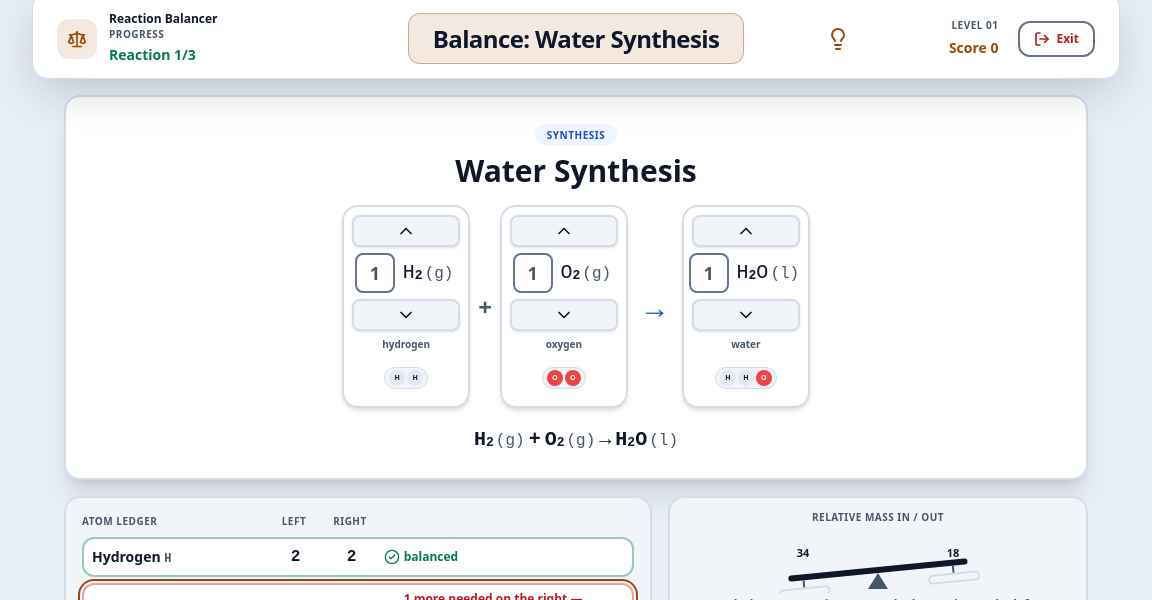
Reaction Balancer page (game flow) › offers three hint tiers from the H key and the lightbulb and withholds the bonus after tier 2
This screenshot has width=1152, height=600.
Press h
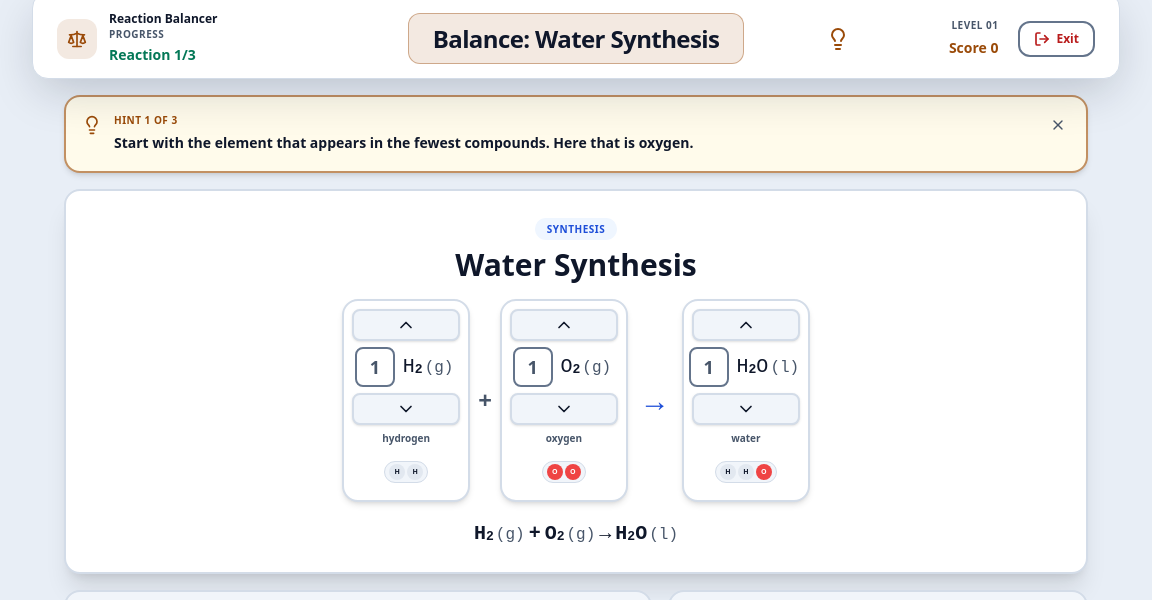
Click the button titled "Get Hint": (838, 38) [818,18,858,58]
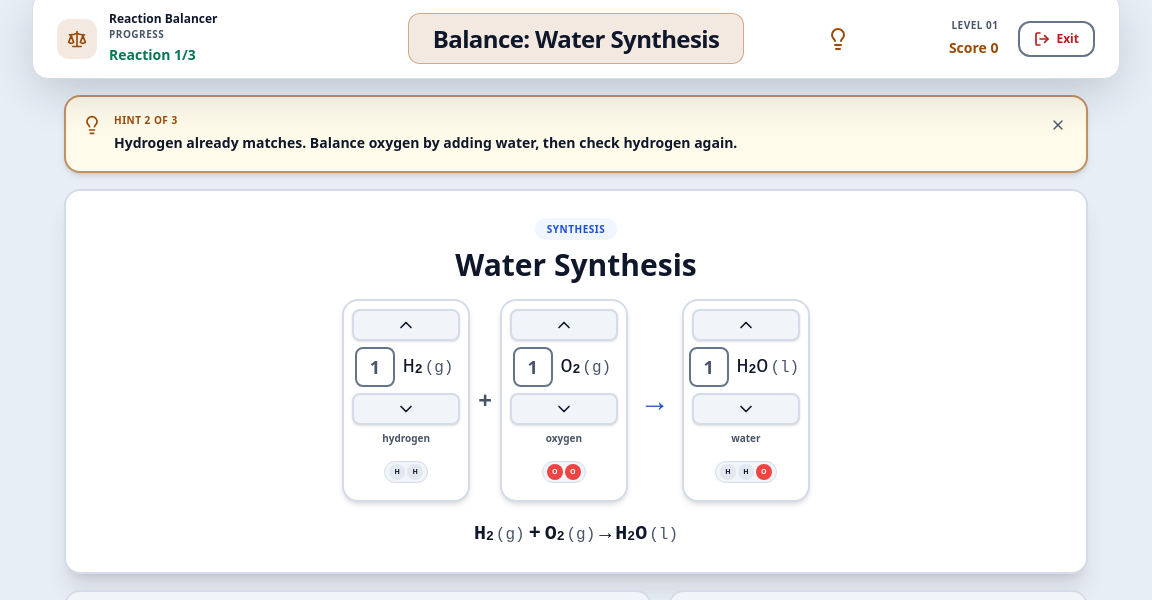
Check: the message with test id "balancer-hint" shows "Hydrogen already matches. Balance oxygen by adding water, then check hydrogen again.", box [114,133,737,152]
Press h
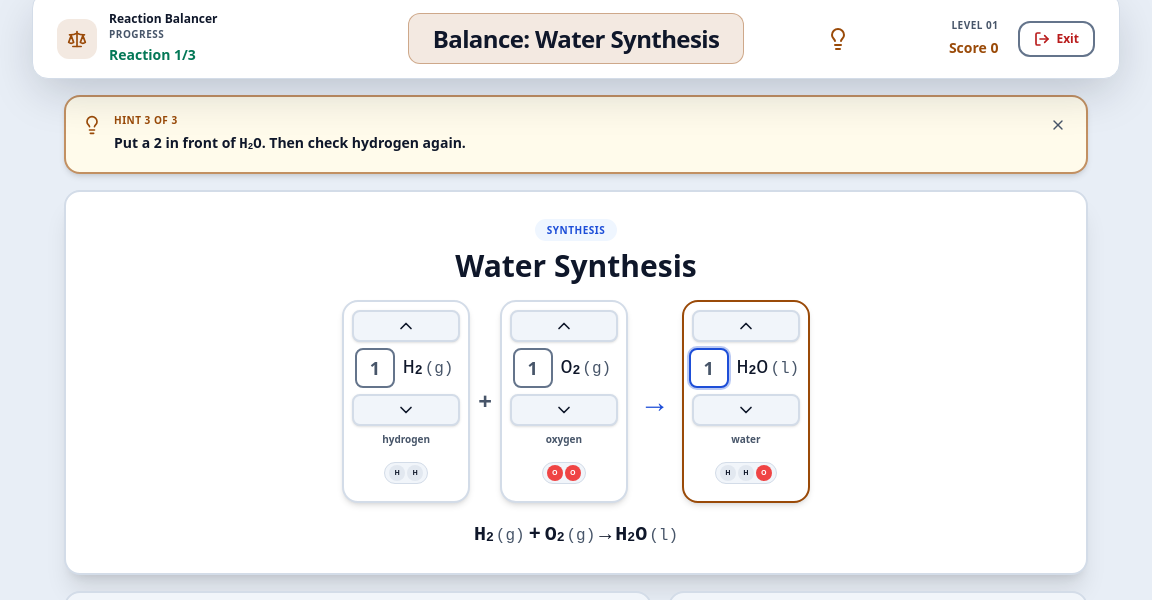
Press h in the field named "Coefficient for water, H2O", box [688,348,728,388]
In the 1st field with placeholder "1": (375, 368) [355,348,395,388], type "2"
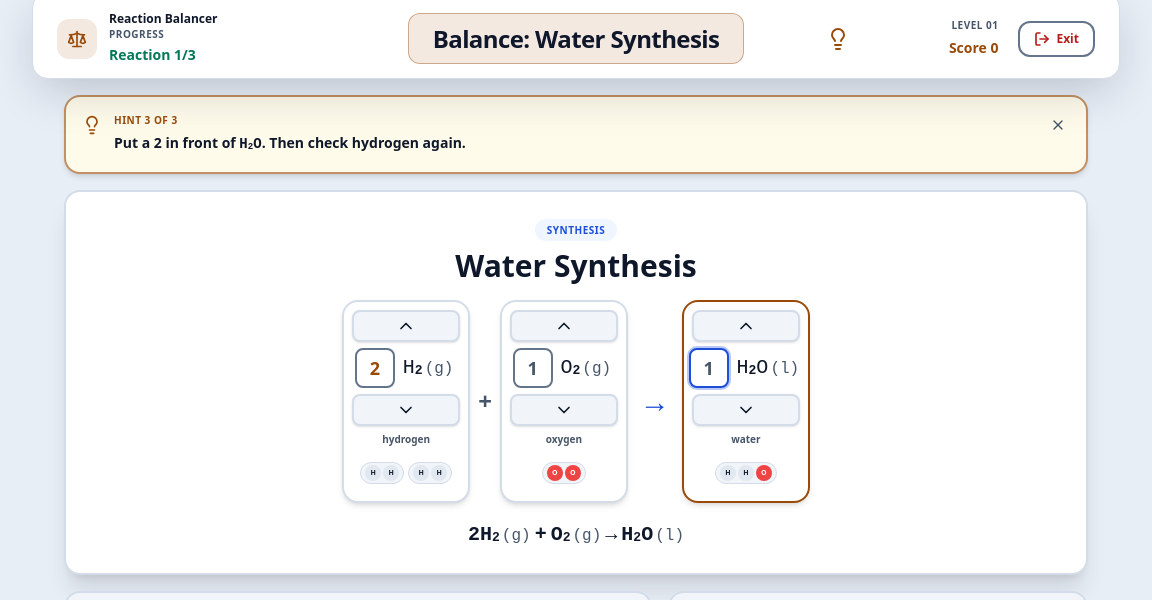
In the field named "Coefficient for water, H2O": (708, 368) [688,348,728,388], type "2"
(page scrolled)
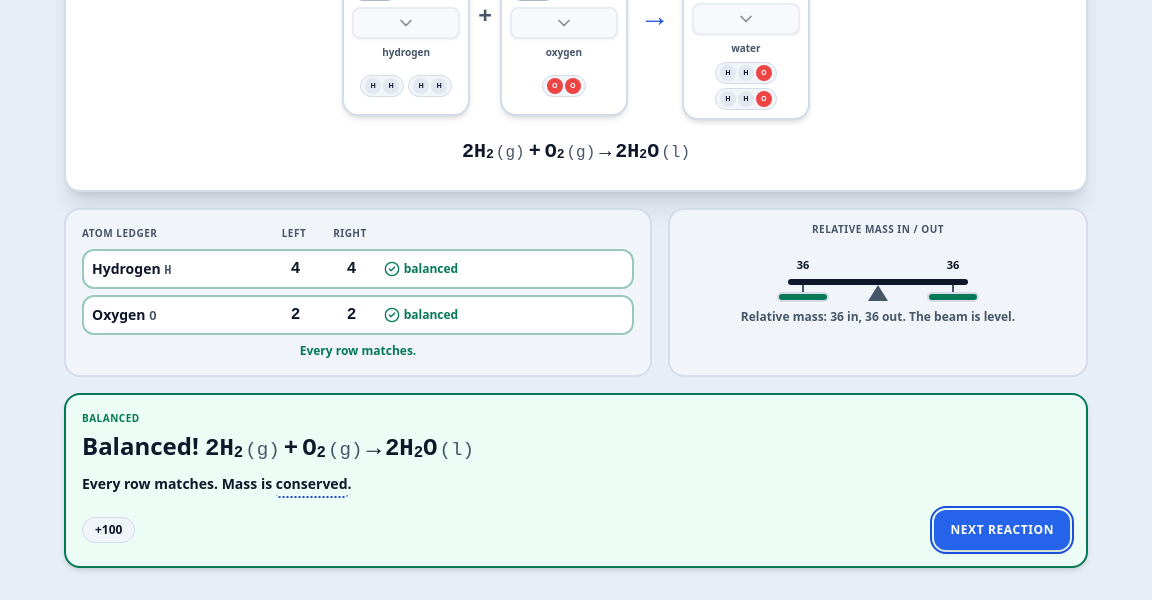
Check: the element with test id "round-complete" is shown, box [64,393,1088,568]
Check: the message with test id "balancer-hint" is gone
